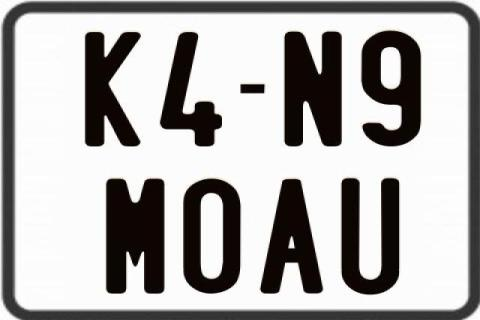0: (159, 31, 224, 146), (183, 177, 246, 295), (359, 31, 419, 147)
A: (259, 180, 327, 294)
K: (83, 31, 141, 148)
M: (106, 178, 169, 294)
N: (282, 32, 344, 150)
U: (338, 176, 402, 292)
